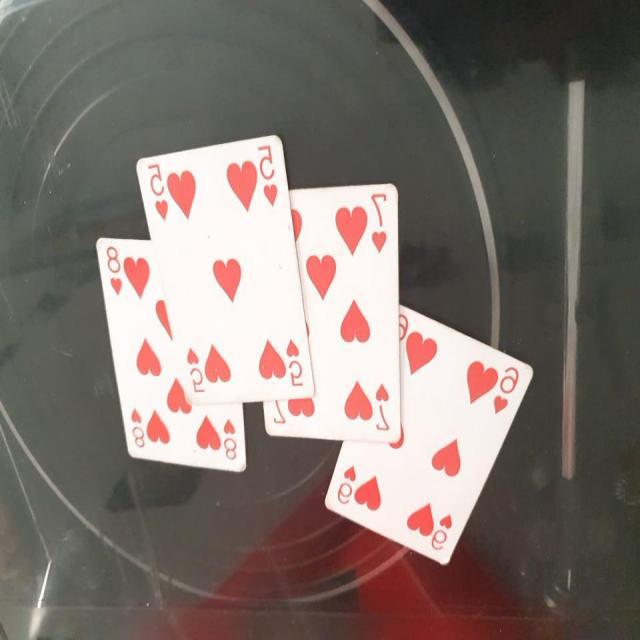5 of hearts: (136, 134, 316, 412)
6 of hearts: (326, 300, 536, 572)
7 of hearts: (261, 174, 408, 446)
8 of hearts: (90, 235, 252, 478)
